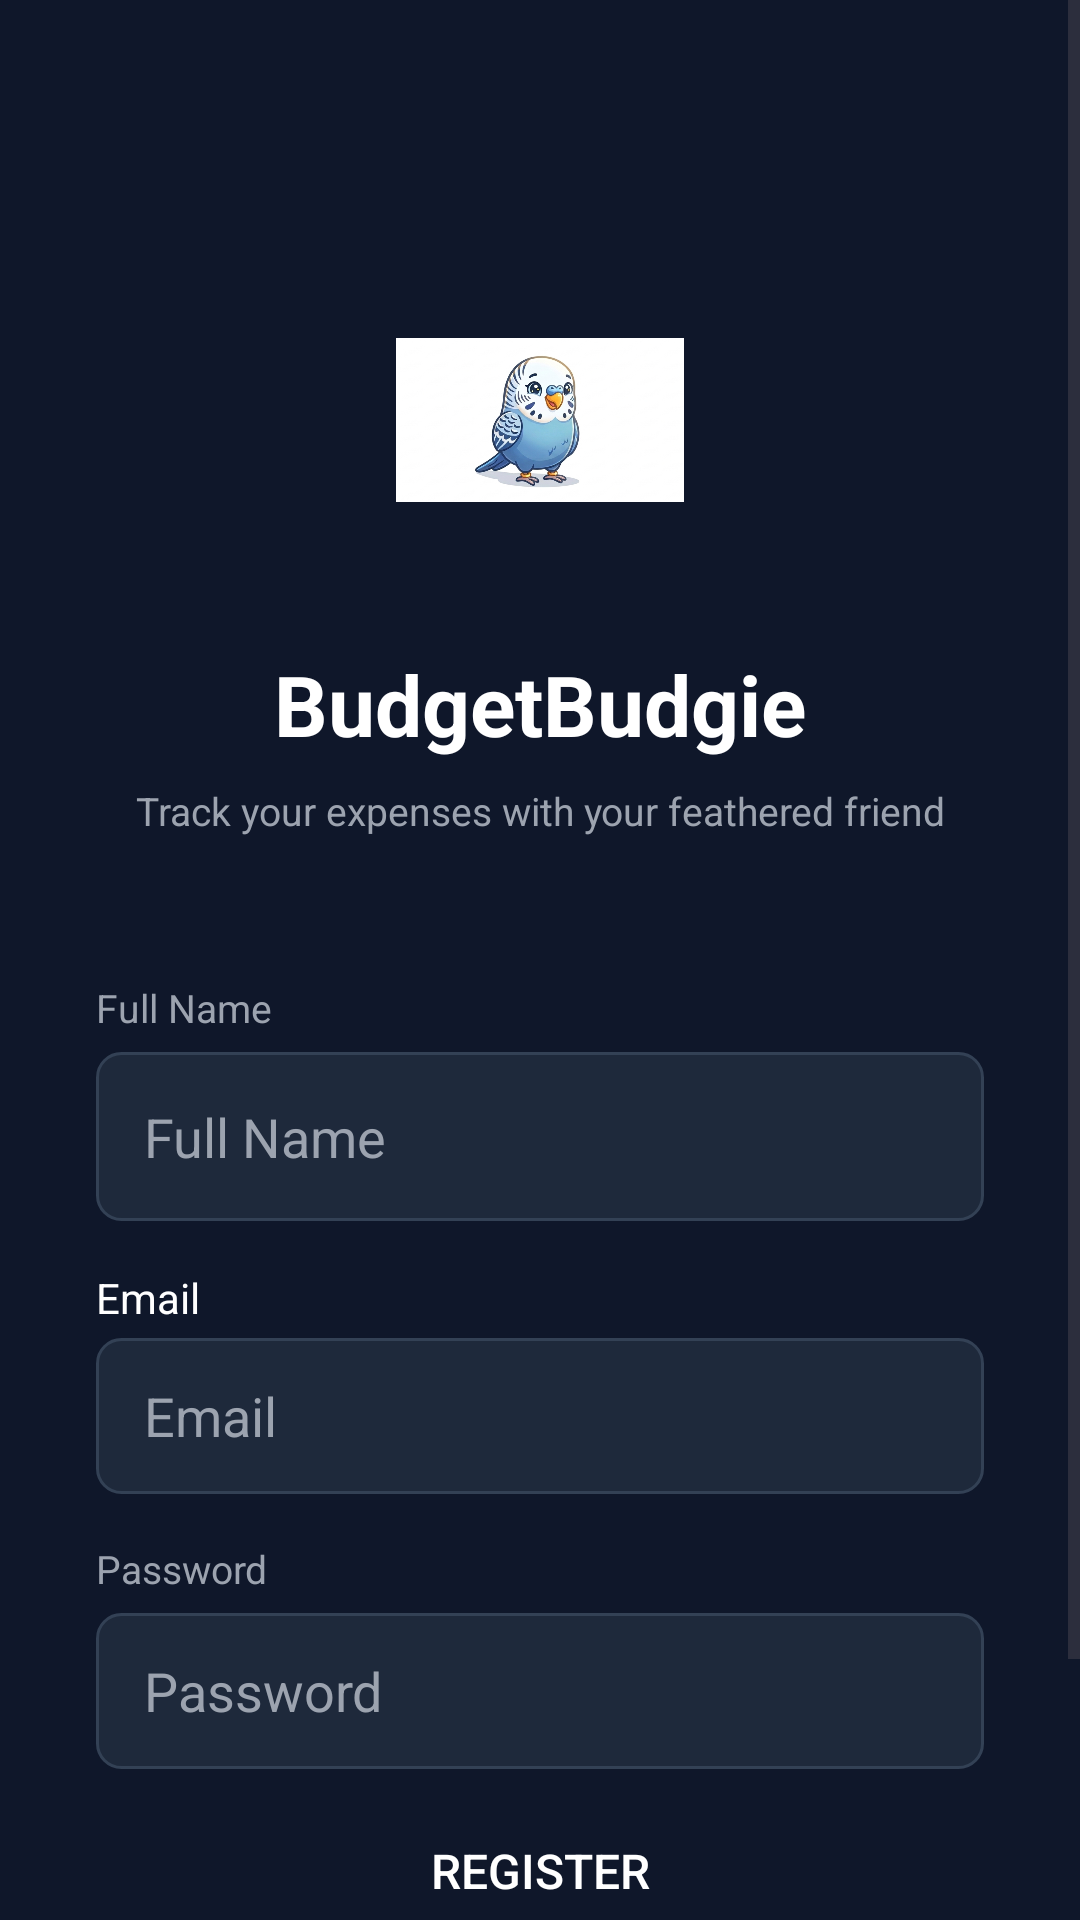

Named icons in this screenshot (1080w x 1920h) and their centers, point (x, y):
budgie happy: point (540, 420)
